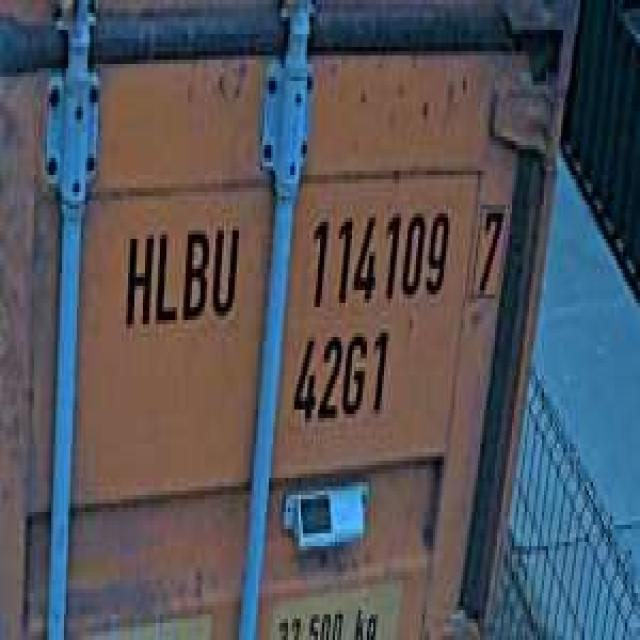dv: (467, 192, 510, 307)
owner: (118, 209, 244, 337)
serial: (303, 196, 452, 312)
size: (286, 320, 395, 431)
